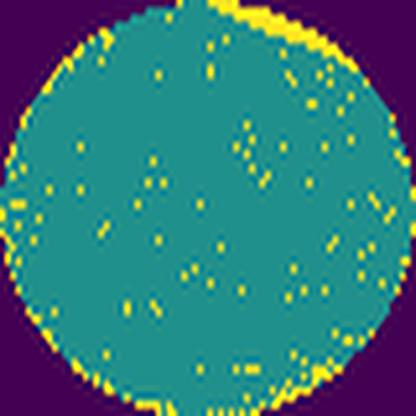Edge-Loc: (197, 0, 371, 82)
